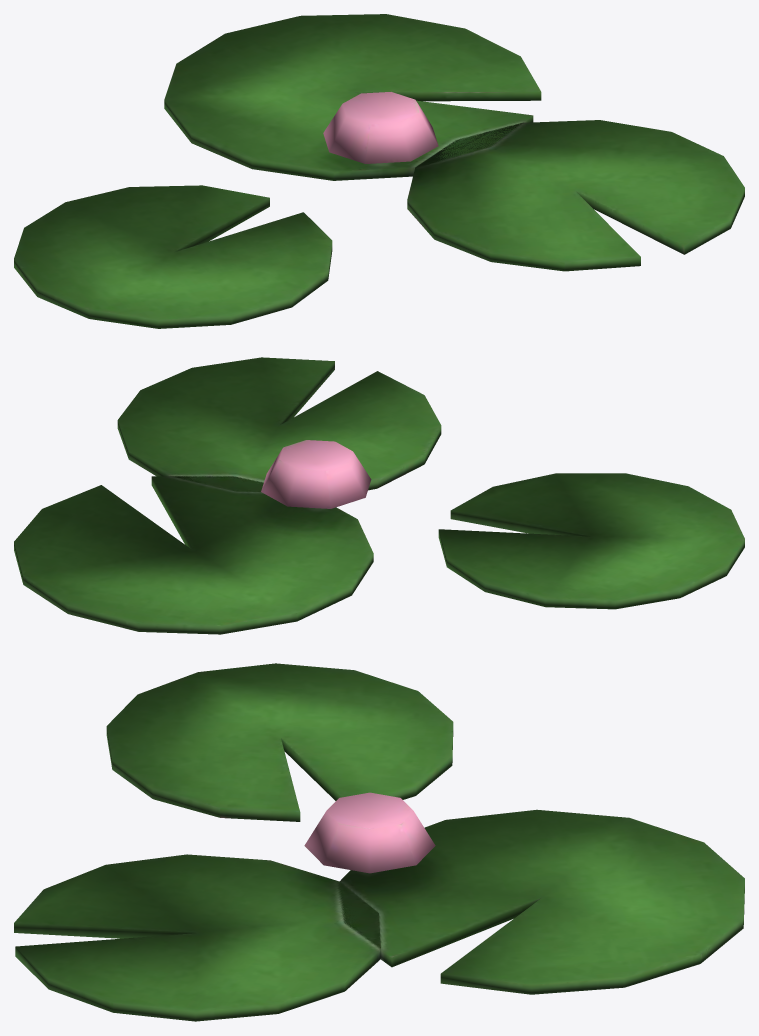
Rendered from lily.glb.
3 views of the same model, one above another, from view 1: azimuth 30°, elevation 25°; view 2: azimuth 150°, elevation 25°; view 3: azimuth 270°, elevation 25° (orthographic). The views are drawn at different scales.
Parts seen in each view (by area): view 1: lily; view 2: lily; view 3: lily.
Part boxes in pixels (x1,y1,x2,y2): lily: (14, 14, 744, 328); lily: (14, 357, 744, 634); lily: (14, 663, 744, 1021).
Bounding box in the file's own units: 1.51 × 0.14 × 1.34.
2 materials, 2 textured.
